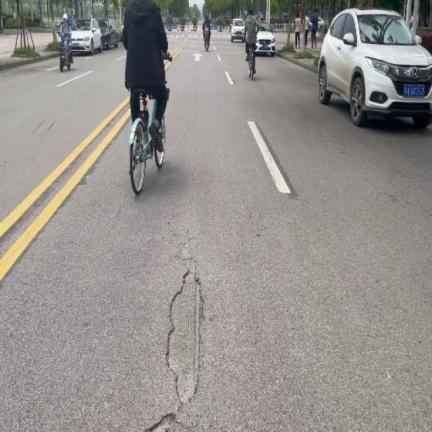Road: (0, 34, 431, 431)
